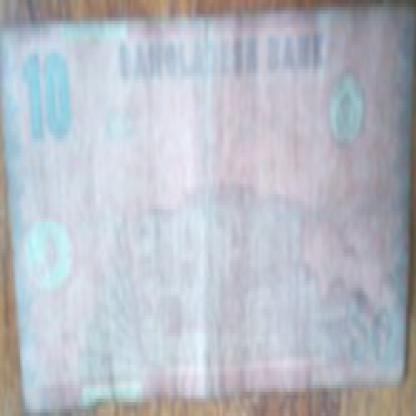Ten Taka: (22, 45, 76, 146), (349, 295, 396, 381)
